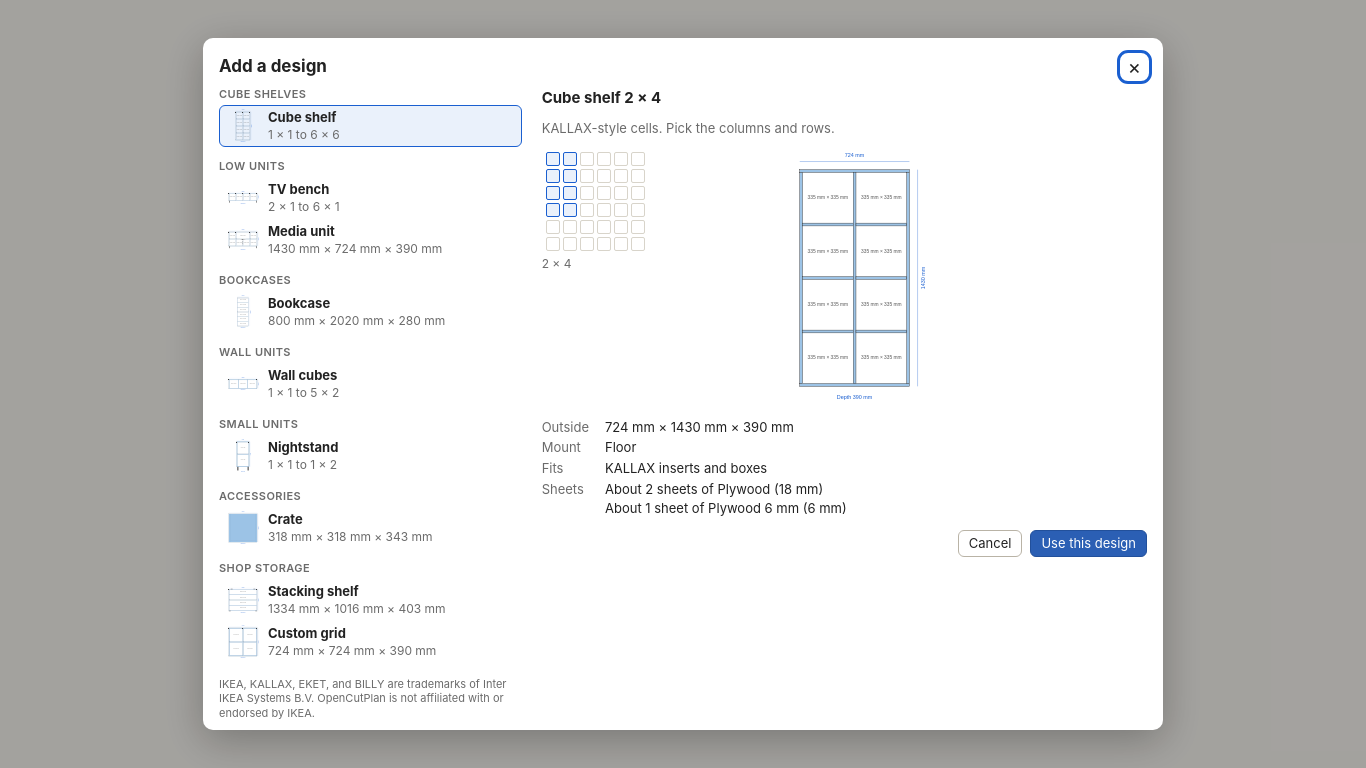
StarterDialog › has no Fits fact for a starter that fits nothing
Click the button "Bookcase 800 mm × 2020 mm × 280 mm" at [370, 312], box [219,291,522,333]
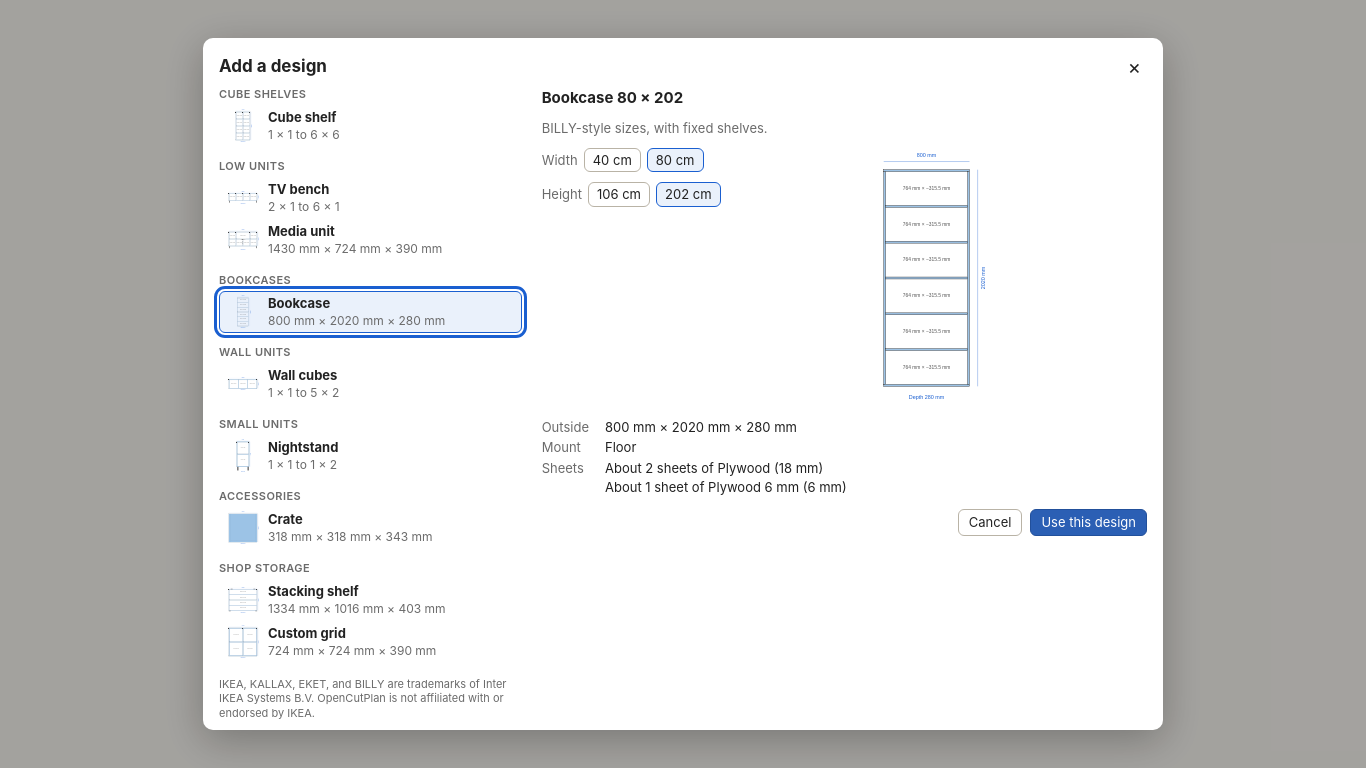
expect the heading "Bookcase 80 × 202" is shown: met, box [542,88,683,107]
expect the text "Fits" is gone: met
Click the button "40 cm" at [612, 160], box [584,148,641,172]
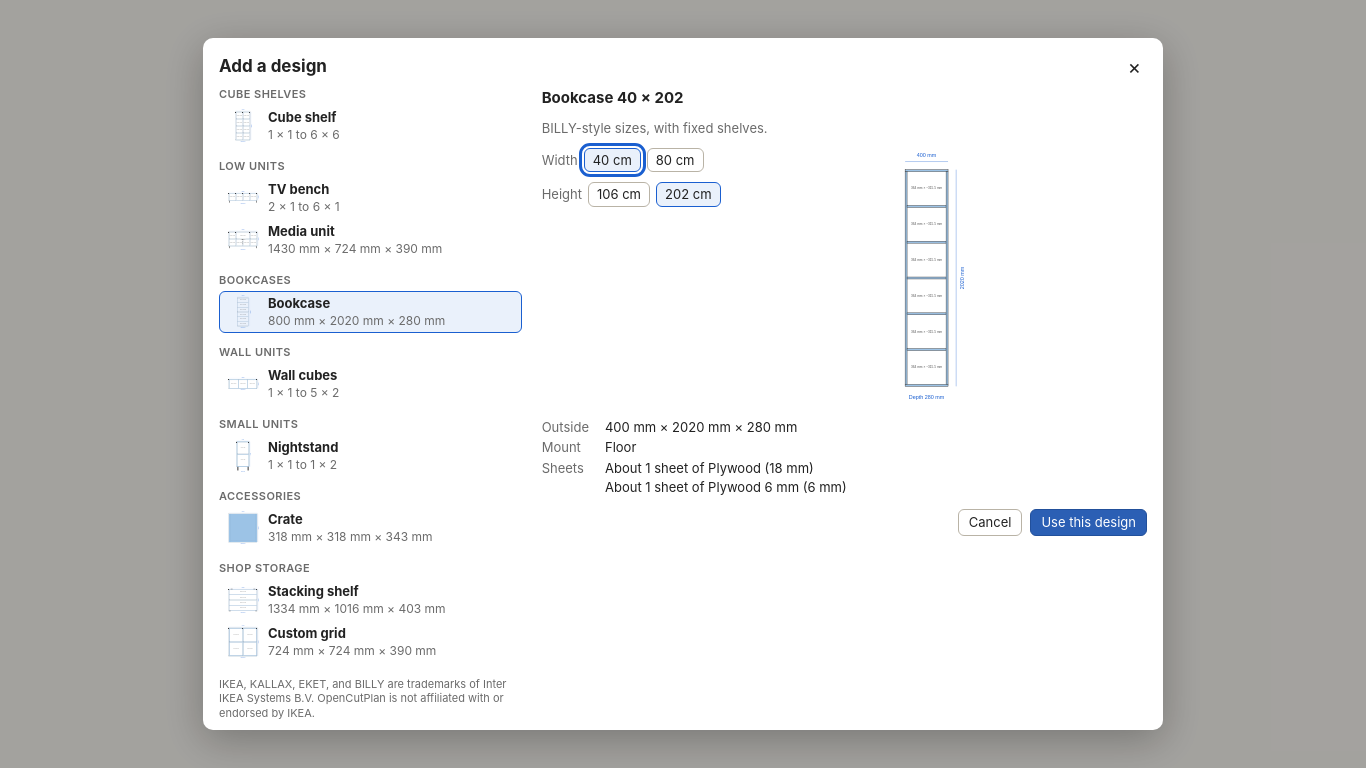
expect the heading "Bookcase 40 × 202" is shown: met, box [542,88,684,107]
